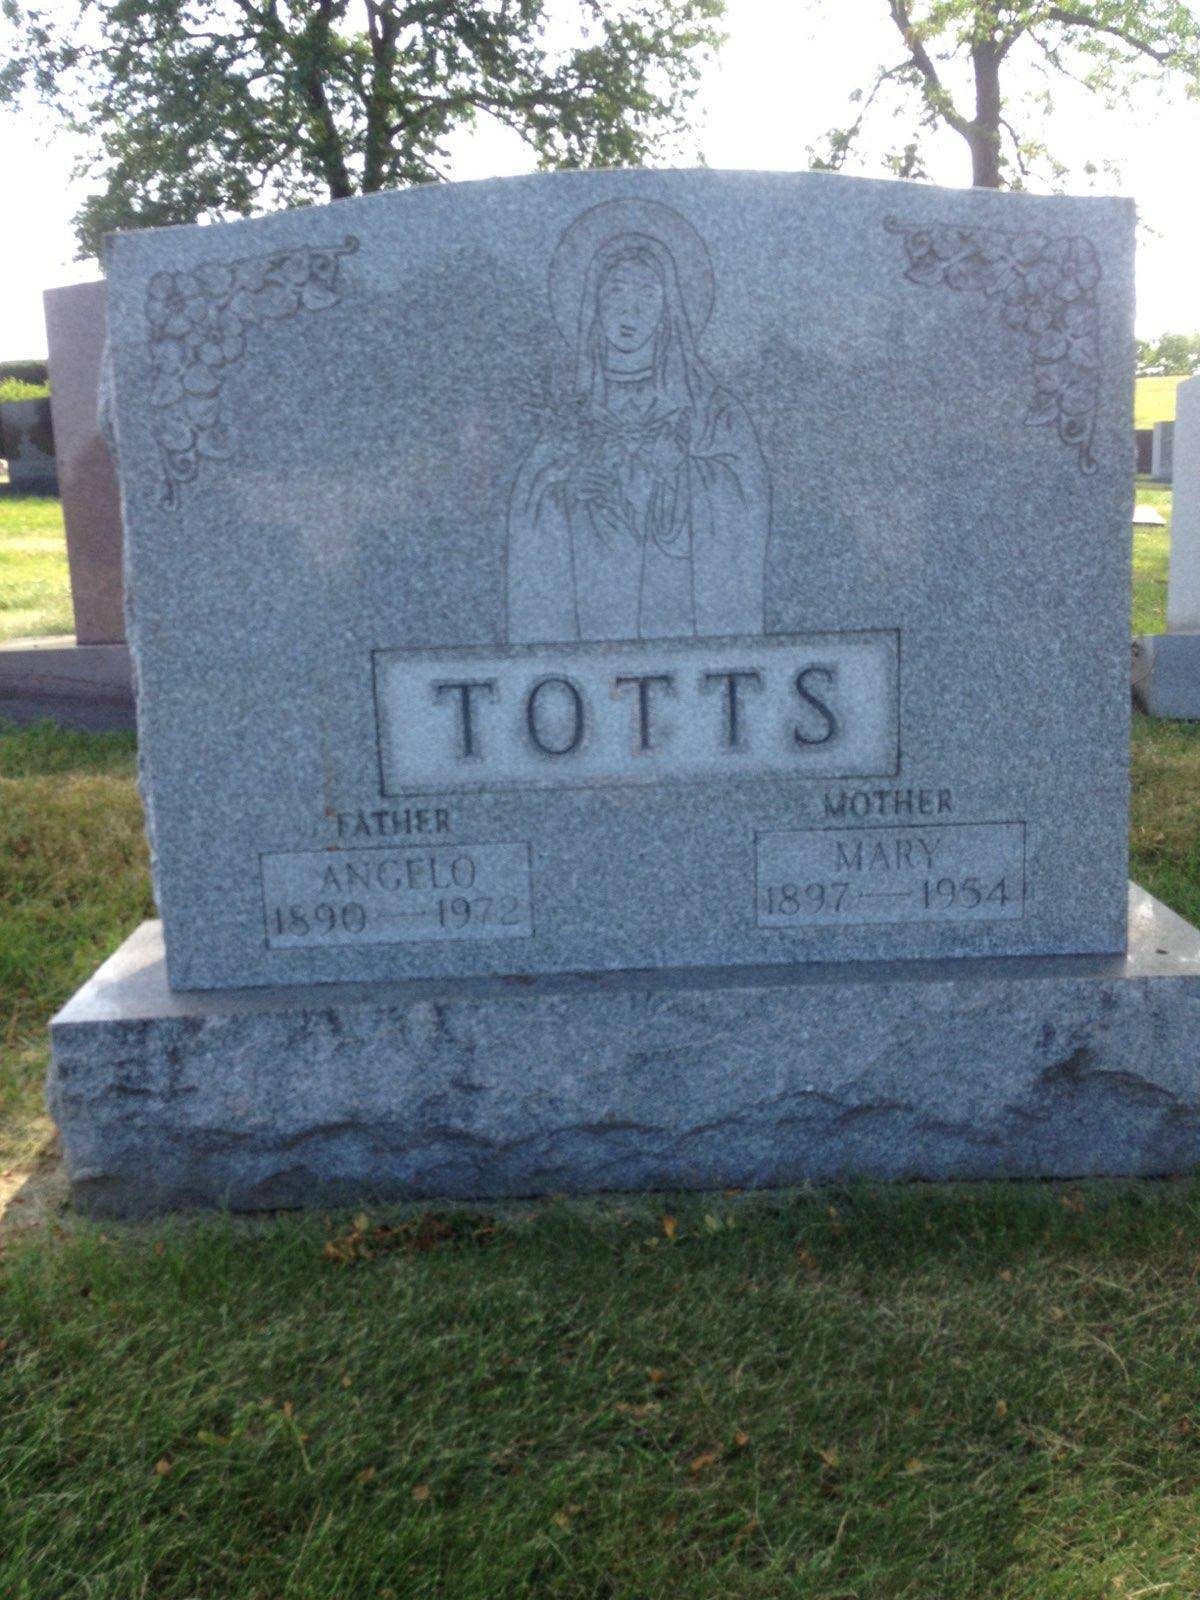upright: (40, 160, 1197, 1206)
